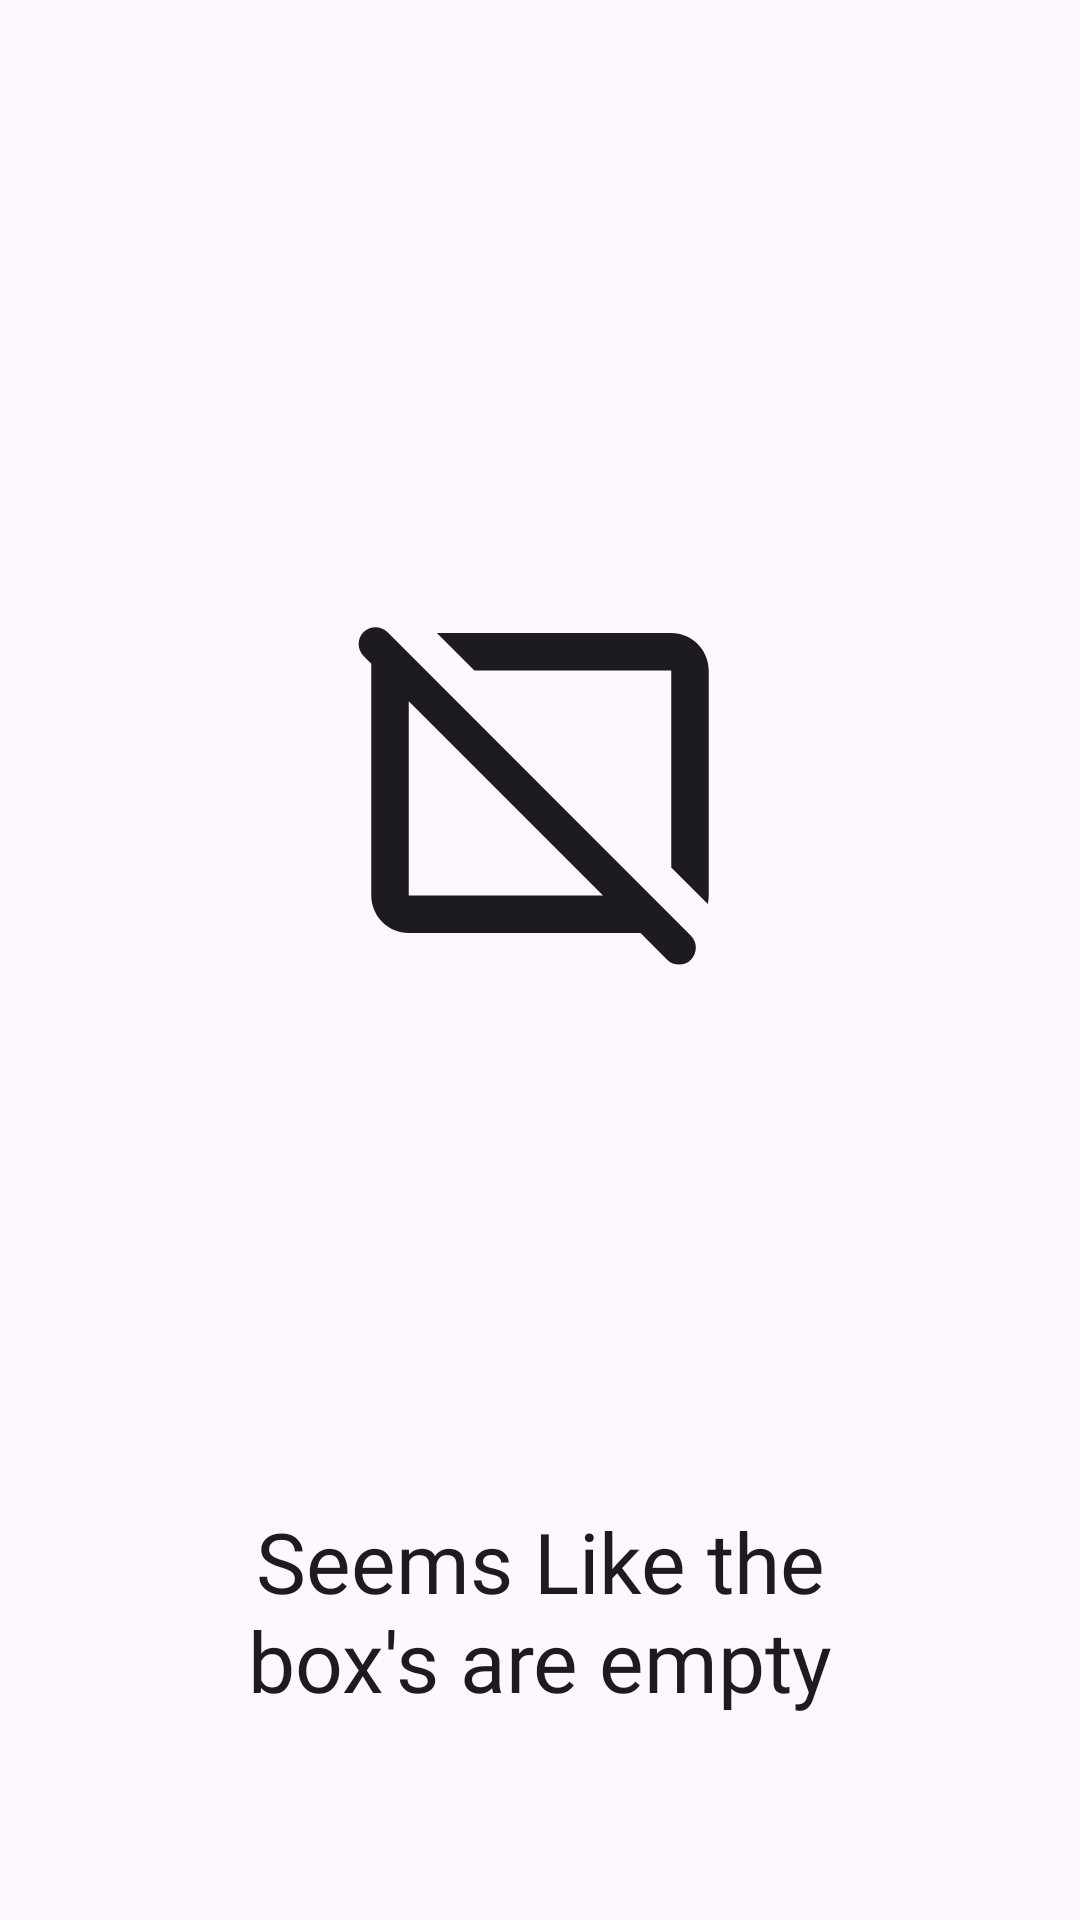

Locate icon controls on the screen. Image size 1080 × 1920, boxes as (x1, y1, x2, y2).
Seems Like the box's are empty: (358, 627, 709, 965)
